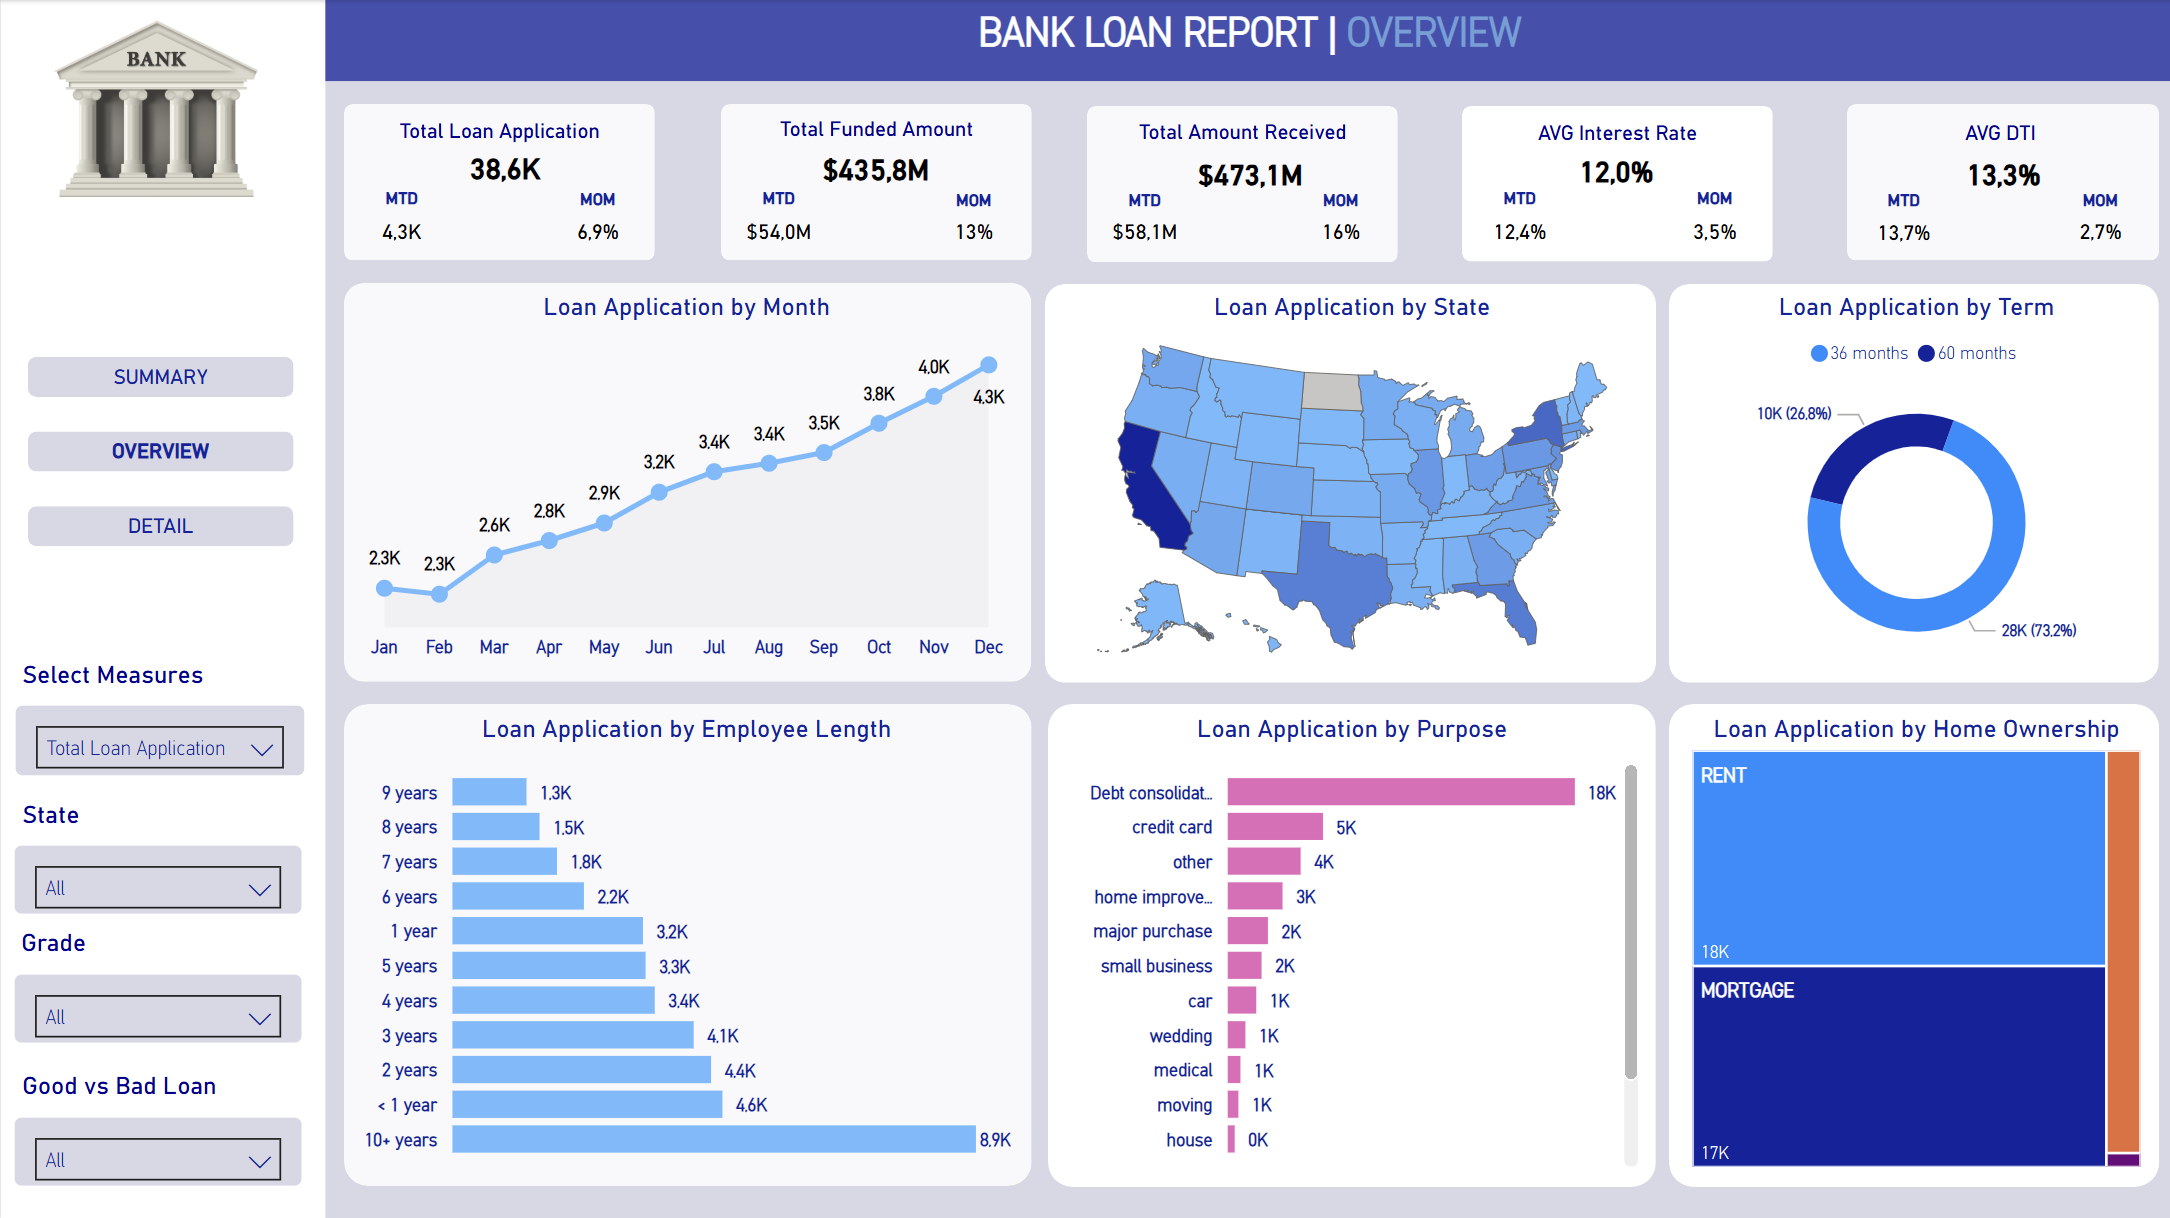

The dashboard page shown, as its layout file describes it:
{"tool":"powerbi","page":{"name":"OVERVIEW","canvas":[1280,720],"ordinal":1},"visuals":[{"type":"shape","box":[191.1,0,1088.9,47.8],"z":0},{"type":"shape","box":[860.5,62.2,183.2,91.6],"z":1000},{"type":"shape","box":[202.2,61.5,183.2,92.3],"z":2000},{"type":"card","title":"Total Loan Application","fields":{"Values":["financial_loan.AVG INTRES RATE"]},"box":[912.2,87,79.2,24.9],"z":3000},{"type":"shape","box":[424,61.5,183.2,92.3],"z":4000},{"type":"shape","box":[640,62.2,183.2,92.3],"z":5000},{"type":"shape","box":[0,0,191.5,718.5],"z":6000},{"type":"shape","box":[1087.6,61.5,183.9,92.3],"z":7000},{"type":"card","title":"Total Loan Application","fields":{"Values":["financial_loan.total loan application"]},"box":[254.6,85.7,85.1,29.4],"z":8000},{"type":"shape","box":[202.4,167,405,235],"z":9000},{"type":"textbox","box":[192,0,1088,48],"z":10000},{"type":"card","title":"Total Loan Application","fields":{"Values":["financial_loan.TOTAL FUNDED AMOUNT"]},"box":[474.4,86.4,82.5,28.8],"z":11000},{"type":"card","title":"Total Loan Application","fields":{"Values":["financial_loan.TOTAL AMOUNT RECEVIED"]},"box":[698.2,89,75.9,23.6],"z":12000},{"type":"card","title":"Total Loan Application","fields":{"Values":["financial_loan.AVG DTI"]},"box":[1144.5,89,70,29.4],"z":13000},{"type":"textbox","box":[860.5,63.5,183.2,28.1],"z":14000},{"type":"shape","box":[615,167.4,360,235],"z":15000},{"type":"slicer","fields":{"Values":["financial_loan.address_state"]},"box":[6.9,497.1,171,42],"z":16000},{"type":"textbox","box":[202.2,62.2,183.2,26.8],"z":17000},{"type":"card","title":"MTD","fields":{"Values":["financial_loan.MTD Total INTREST RATE"]},"box":[860.7,111.3,68,42],"z":18000},{"type":"card","title":"MOM","fields":{"Values":["financial_loan.MOM TOTAL intrest rate"]},"box":[976,111.3,68,42],"z":19000},{"type":"textbox","box":[7.9,465.9,70,31.4],"z":20000},{"type":"slicer","fields":{"Values":["financial_loan.grade"]},"box":[6.9,573.4,171,42],"z":21000},{"type":"card","title":"MTD","fields":{"Values":["financial_loan.MTD LOAN APPLICATION"]},"box":[202,111.3,68,42],"z":22000},{"type":"slicer","fields":{"Values":["financial_loan.Good VS Bad Loan"]},"box":[6.9,657.5,171,42],"z":23000},{"type":"card","title":"MOM","fields":{"Values":["financial_loan.MOM LOAN APPLICATION"]},"box":[317.3,112,68,41.3],"z":24000},{"type":"textbox","box":[424,61.5,183.2,27.5],"z":25000},{"type":"textbox","box":[1087.6,63.5,183.9,27.5],"z":26000},{"type":"textbox","box":[640,62.8,183.2,28.1],"z":27000},{"type":"textbox","box":[6.9,541.3,71.1,32.1],"z":28000},{"type":"textbox","box":[7.9,625.6,136.1,32.1],"z":29000},{"type":"slicer","fields":{"Values":["Select measures.Select measures"]},"box":[7.8,414.7,171.8,42.5],"z":30000},{"type":"textbox","box":[7.9,383.5,143.3,31.4],"z":31000},{"type":"card","title":"MTD","fields":{"Values":["financial_loan.MTD DTI"]},"box":[1087.3,112.7,68,41.3],"z":32000},{"type":"areaChart","title":"Loan Application by Month","fields":{"Y":["financial_loan.Total Loan Application"],"Category":["Date Table.Month"]},"box":[208,172.7,392,222],"z":33000},{"type":"card","title":"MTD","fields":{"Values":["financial_loan.MTD FUNDED AMOUNT"]},"box":[424,111.3,68,42],"z":34000},{"type":"shapeMap","title":"Loan Application by State","fields":{"Value":["financial_loan.Total Loan Application"],"Category":["financial_loan.address_state"]},"box":[622.7,172.7,346.7,226.7],"z":35000},{"type":"card","title":"MTD","fields":{"Values":["financial_loan.MTD Total AMOUNT RECIVED"]},"box":[640,112.7,68,40.7],"z":36000},{"type":"shape","box":[982.9,167.5,288.6,234.9],"z":37000},{"type":"card","title":"MOM","fields":{"Values":["financial_loan.MOM DTI"]},"box":[1202.7,112.7,68.7,40.7],"z":38000},{"type":"donutChart","title":"Loan Application by Term","fields":{"Y":["financial_loan.Total Loan Application"],"Category":["financial_loan.term"]},"box":[991.3,172.7,274,226.7],"z":39000},{"type":"shape","box":[202,414.7,405.3,284],"z":40000},{"type":"card","title":"MOM","fields":{"Values":["financial_loan.MOM TOTAL FUNDED"]},"box":[539.3,112.7,68,40.7],"z":41000},{"type":"barChart","title":"Loan Application by Employee Length","fields":{"Y":["financial_loan.Total Loan Application"],"Category":["financial_loan.emp_length"]},"box":[208,421.3,392,271.3],"z":42000},{"type":"shape","box":[616.8,414.7,358.3,284.5],"z":43000},{"type":"card","title":"MOM","fields":{"Values":["financial_loan.MOM TOTAL amount Received"]},"box":[755.3,112.7,68,40.7],"z":44000},{"type":"barChart","title":"Loan Application by Purpose","fields":{"Y":["financial_loan.Total Loan Application"],"Category":["financial_loan.purpose"]},"box":[622.7,421.3,346.7,271.3],"z":45000},{"type":"shape","box":[982.8,414.7,288.9,284.5],"z":46000},{"type":"treemap","title":"Loan Application by Home Ownership","fields":{"Values":["financial_loan.Total Loan Application"],"Group":["financial_loan.home_ownership"]},"box":[991.3,421.3,274,271.3],"z":47000},{"type":"pageNavigator","box":[10.5,204.8,167.5,123.7],"z":48000},{"type":"image","box":[23.4,6.9,136.2,113.6],"z":49000}]}

Visuals, with their boxes in screenshot pixels (x1, y1, x2, y2), scaled from the page's 1280x720 canvas onto the 2170x1218 screenshot:
shape: Rect(324, 0, 2169, 81)
shape: Rect(1459, 105, 1769, 260)
shape: Rect(343, 104, 653, 260)
"Total Loan Application" card: Rect(1546, 147, 1681, 189)
shape: Rect(719, 104, 1029, 260)
shape: Rect(1085, 105, 1396, 261)
shape: Rect(0, 0, 325, 1215)
shape: Rect(1844, 104, 2156, 260)
"Total Loan Application" card: Rect(432, 145, 576, 195)
shape: Rect(343, 283, 1030, 680)
textbox: Rect(326, 0, 2169, 81)
"Total Loan Application" card: Rect(804, 146, 944, 195)
"Total Loan Application" card: Rect(1184, 151, 1312, 190)
"Total Loan Application" card: Rect(1940, 151, 2059, 200)
textbox: Rect(1459, 107, 1769, 155)
shape: Rect(1043, 283, 1653, 681)
slicer - financial_loan.address_state: Rect(12, 841, 302, 912)
textbox: Rect(343, 105, 653, 151)
"MTD" card: Rect(1459, 188, 1574, 259)
"MOM" card: Rect(1655, 188, 1770, 259)
textbox: Rect(13, 788, 132, 841)
slicer - financial_loan.grade: Rect(12, 970, 302, 1041)
"MTD" card: Rect(342, 188, 458, 259)
slicer - financial_loan.Good VS Bad Loan: Rect(12, 1112, 302, 1183)
"MOM" card: Rect(538, 189, 653, 259)
textbox: Rect(719, 104, 1029, 151)
textbox: Rect(1844, 107, 2156, 154)
textbox: Rect(1085, 106, 1396, 154)
textbox: Rect(12, 916, 132, 970)
textbox: Rect(13, 1058, 244, 1113)
slicer - Select measures.Select measures: Rect(13, 702, 304, 773)
textbox: Rect(13, 649, 256, 702)
"MTD" card: Rect(1843, 191, 1959, 261)
"Loan Application by Month" areaChart: Rect(353, 292, 1017, 668)
"MTD" card: Rect(719, 188, 834, 259)
"Loan Application by State" shapeMap: Rect(1056, 292, 1643, 676)
"MTD" card: Rect(1085, 191, 1200, 260)
shape: Rect(1666, 283, 2156, 681)
"MOM" card: Rect(2039, 191, 2155, 260)
"Loan Application by Term" donutChart: Rect(1681, 292, 2145, 676)
shape: Rect(342, 702, 1030, 1182)
"MOM" card: Rect(914, 191, 1030, 260)
"Loan Application by Employee Length" barChart: Rect(353, 713, 1017, 1172)
shape: Rect(1046, 702, 1653, 1183)
"MOM" card: Rect(1280, 191, 1396, 260)
"Loan Application by Purpose" barChart: Rect(1056, 713, 1643, 1172)
shape: Rect(1666, 702, 2156, 1183)
"Loan Application by Home Ownership" treemap: Rect(1681, 713, 2145, 1172)
pageNavigator: Rect(18, 346, 302, 556)
image: Rect(40, 12, 271, 204)
